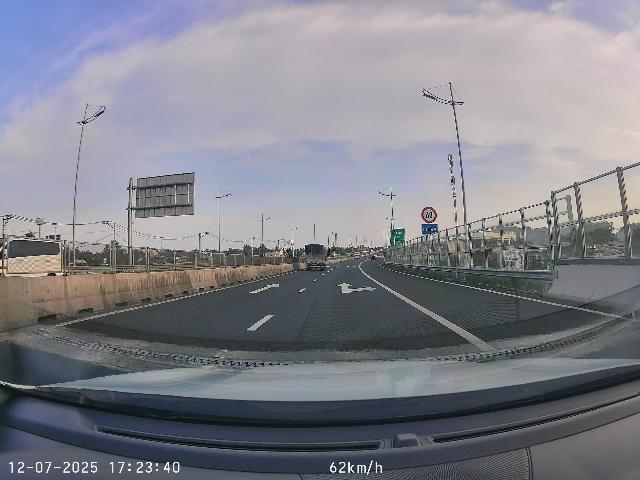127-toc-do-toi-da-60: (421, 207, 437, 223)
